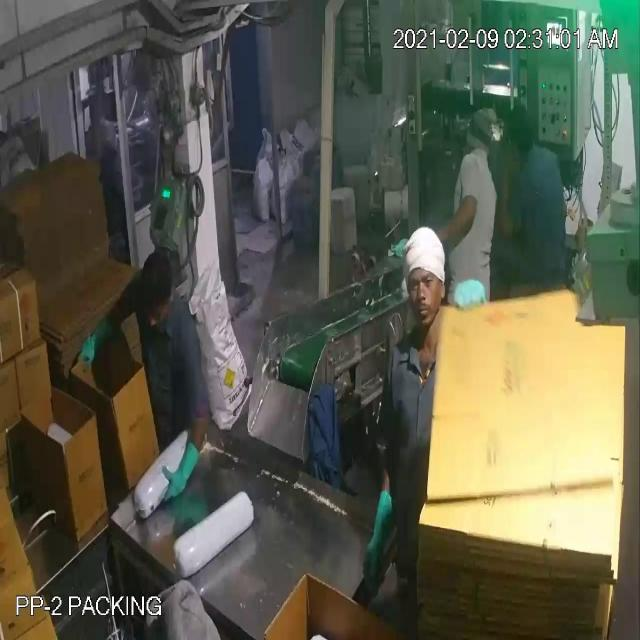Gloves: (45, 60, 452, 540)
